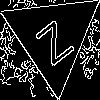Z: (28, 12, 76, 66)
